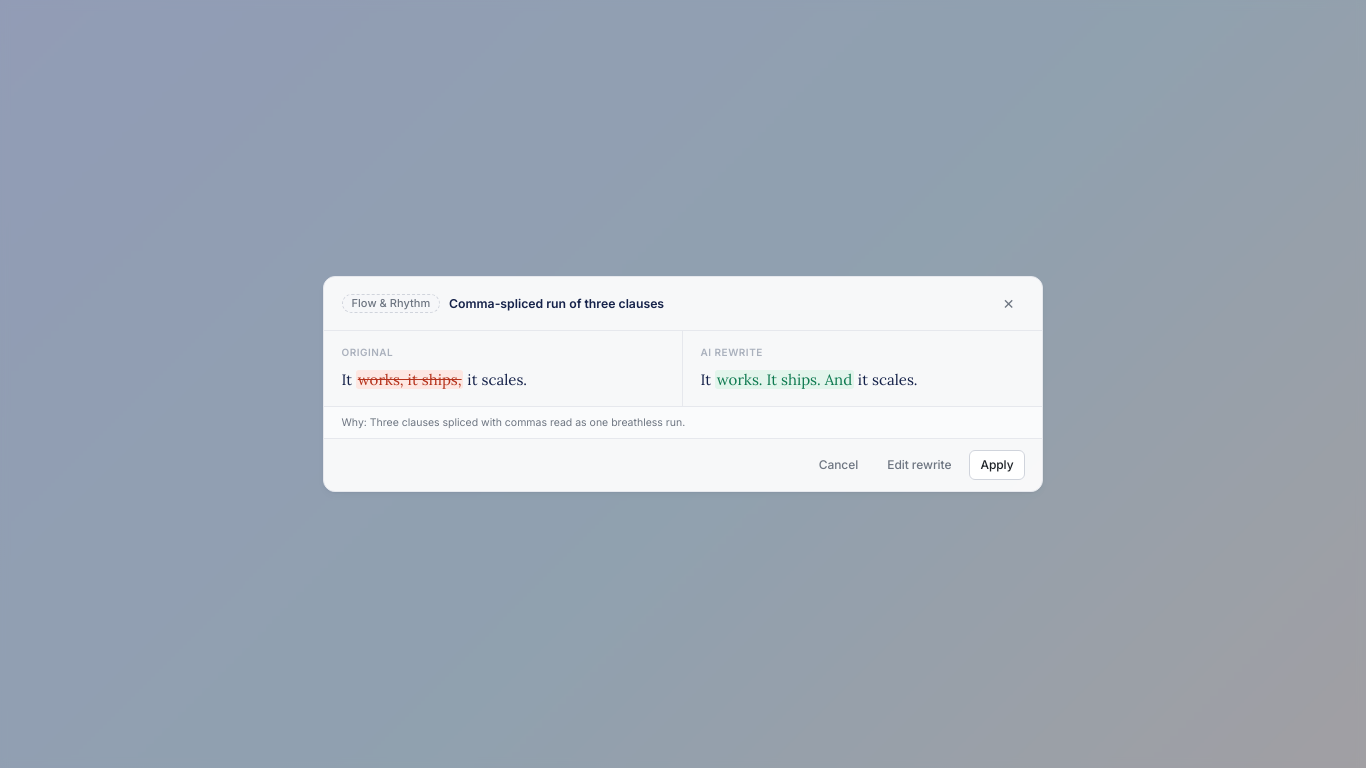
FixPreviewModal › Back to compare returns to the diff panes; Edit rewrite prefills again
Click the button "Edit rewrite" at (919, 465), box 876,450 -> 962,480
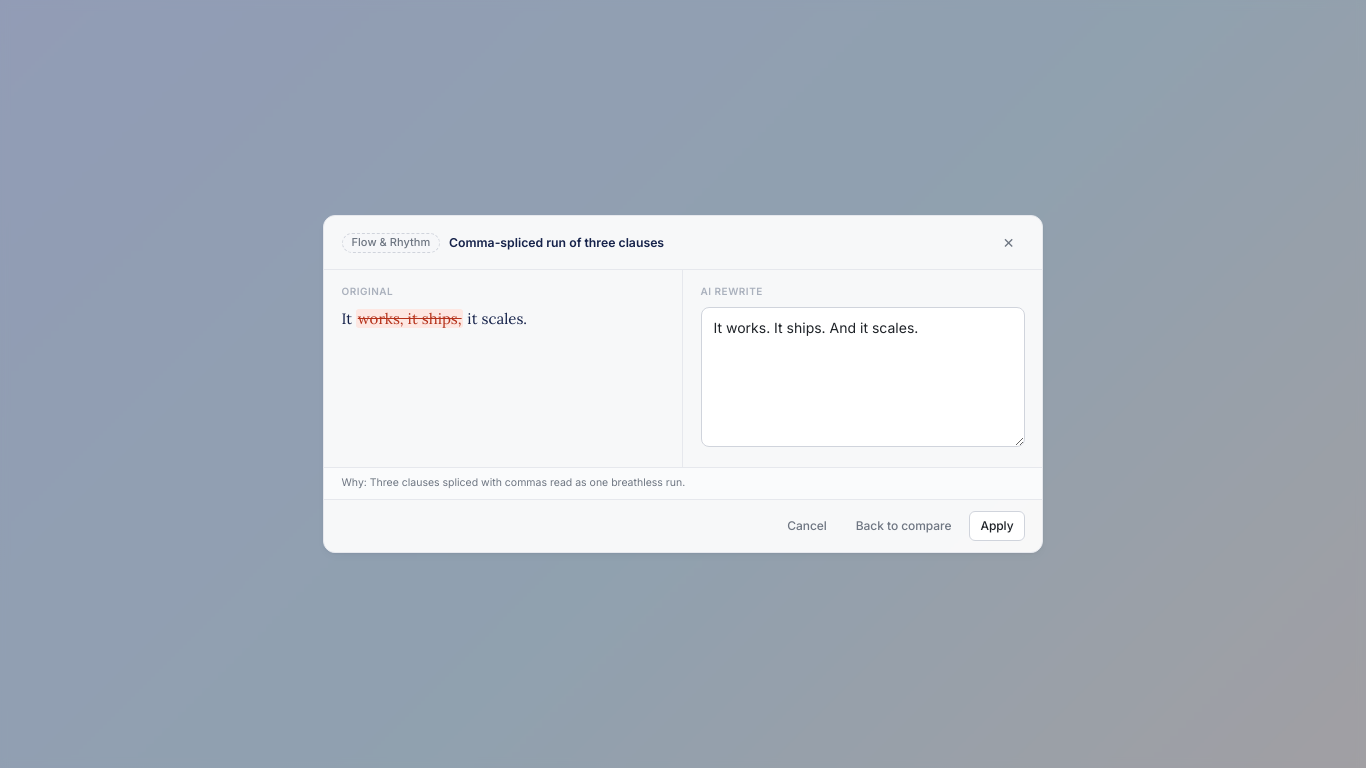
Result: the text box is shown at 700,307 -> 1024,447
Click the button "Back to compare" at (904, 526), box 845,510 -> 962,541
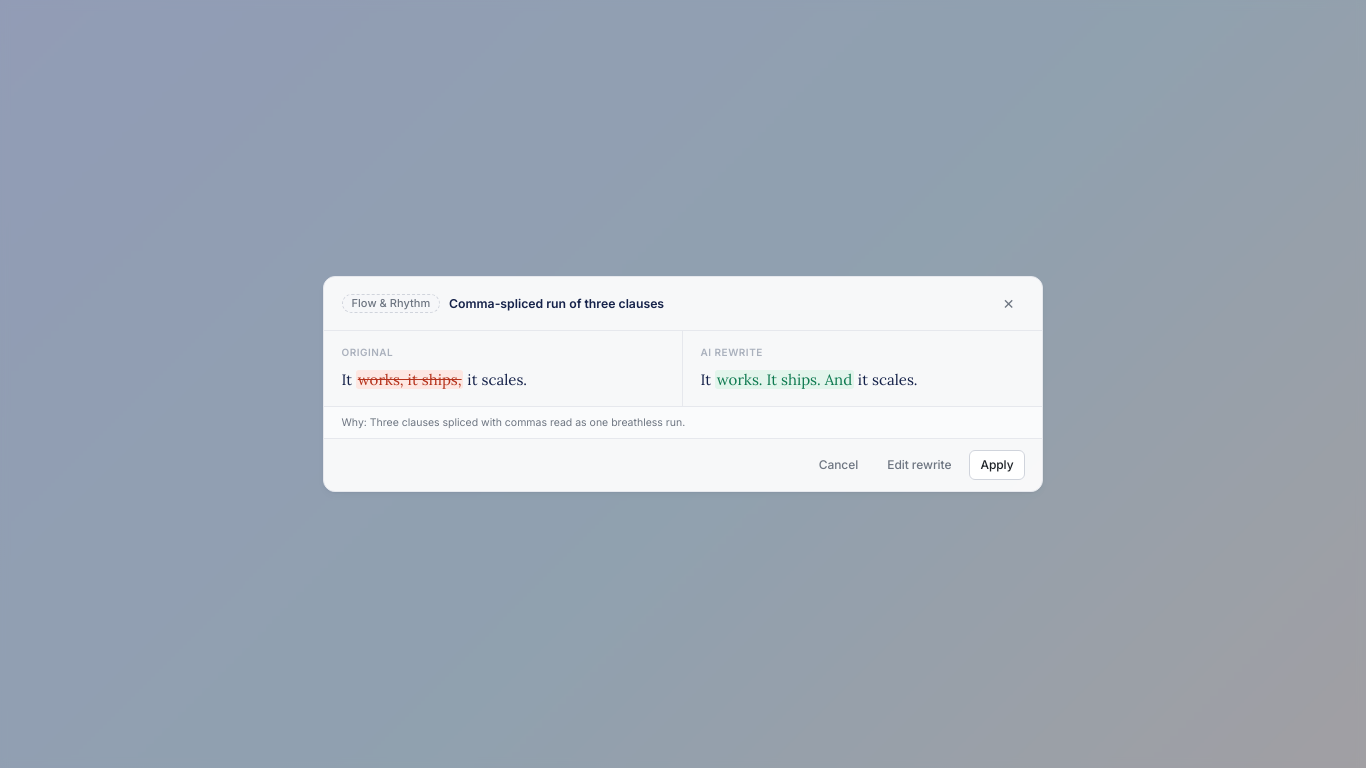
Expected: the text "Original" is shown, 342,346 -> 393,358
Expected: the text "AI rewrite" is shown, 700,346 -> 763,358
Click the button "Edit rewrite" at (919, 465), box 876,450 -> 962,480
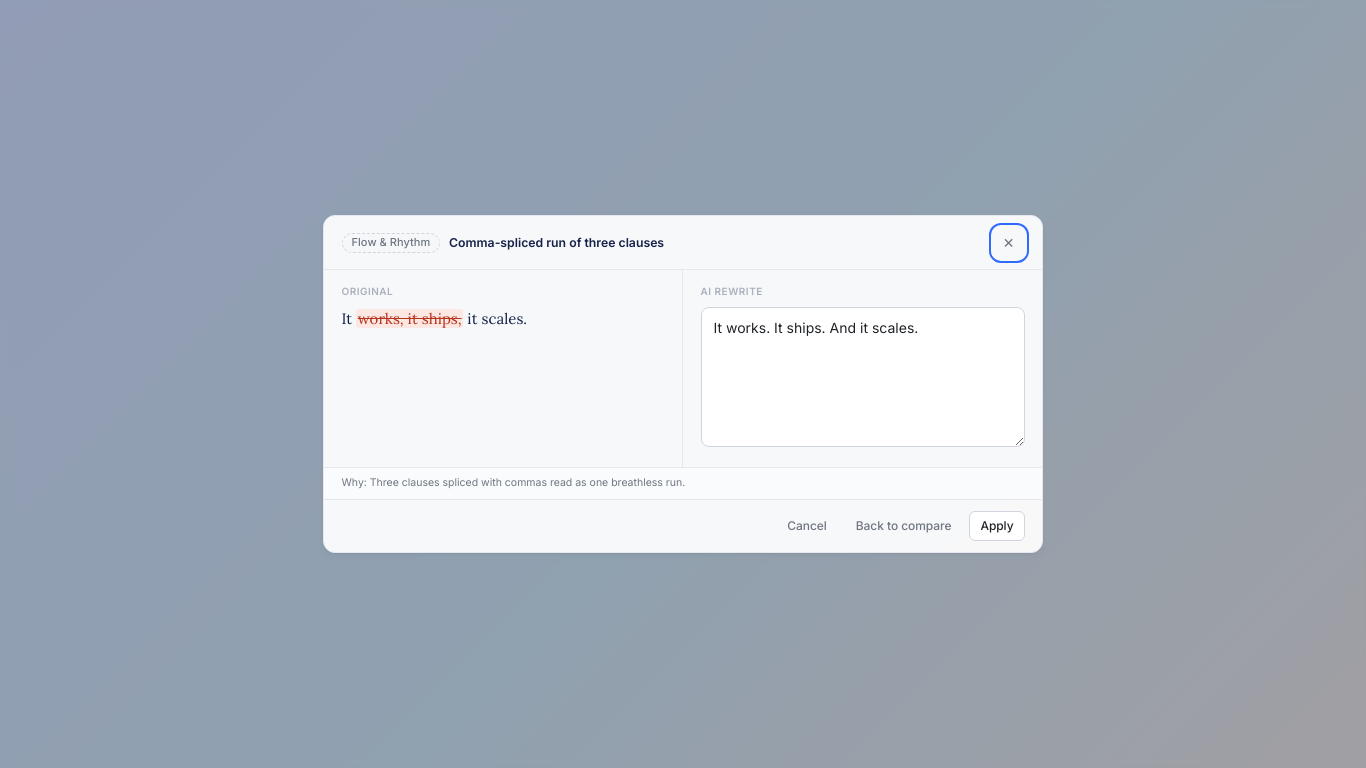
Result: the text box holds "It works. It ships. And it scales." at 700,307 -> 1024,447
